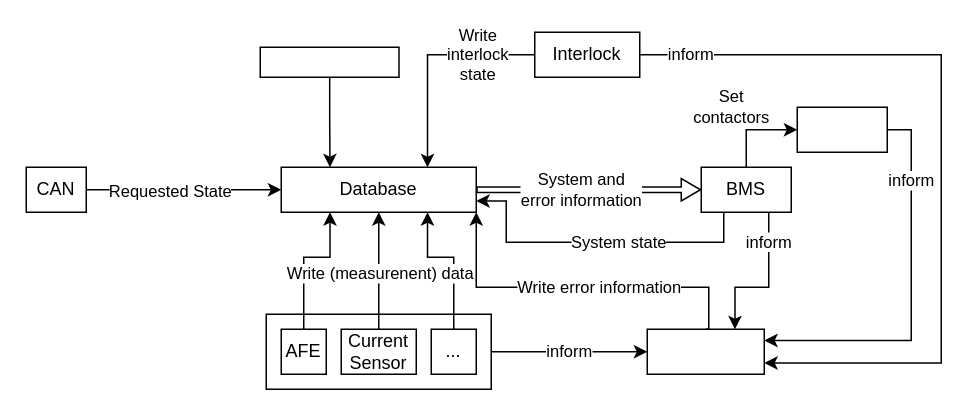
Some shapes in this 980 by 417 pixel diagram are drawn without their labels. The shapes that lost their labels are listed below. From the top down, each one's centre as x and y in pixels, then its label:
(329,61): State estimation
(841,129): Contactor
(705,351): Diagnosis
